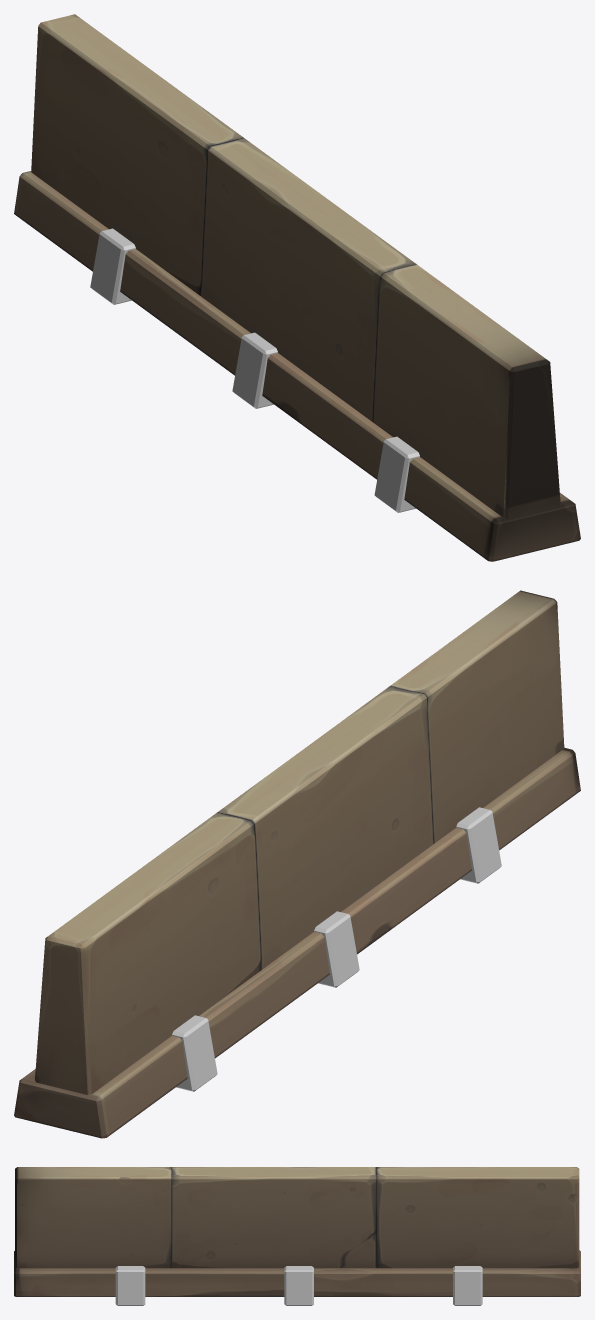
Rendered from small_wall_03.fbx.
The picture shows the model from 3 angles, top to bottom: view 1: azimuth 30°, elevation 25°; view 2: azimuth 150°, elevation 25°; view 3: azimuth 270°, elevation 25°; orthographic projection. The views are drawn at different scales.
Visible parts, largest first — view 1: wh_small_wall_03; view 2: wh_small_wall_03; view 3: wh_small_wall_03.
Boxes of the visible parts, x1=… form: wh_small_wall_03: x1=14, y1=14, x2=580, y2=561; wh_small_wall_03: x1=14, y1=590, x2=580, y2=1138; wh_small_wall_03: x1=14, y1=1167, x2=580, y2=1305.
Bounding box in the file's own units: 0.8511 × 1.55 × 6.72.
